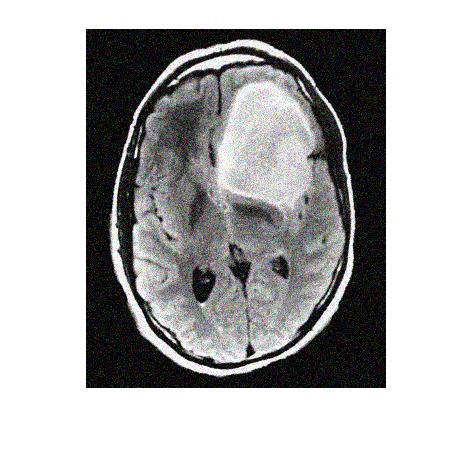Brain_Cancer: (215, 81, 316, 211)
